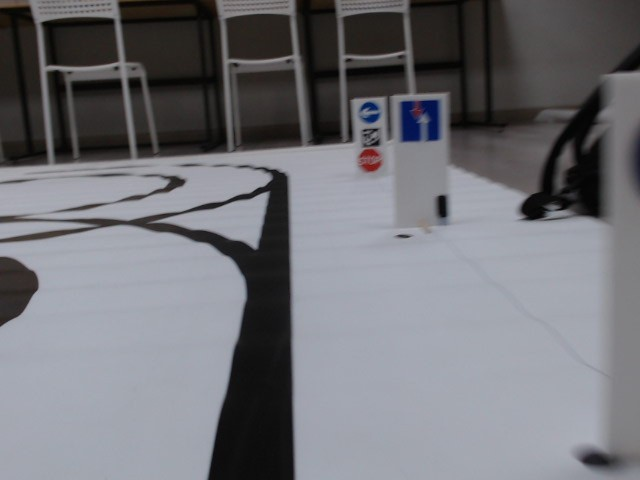Stop: (358, 150, 384, 171)
priority_movement: (397, 96, 443, 146)
